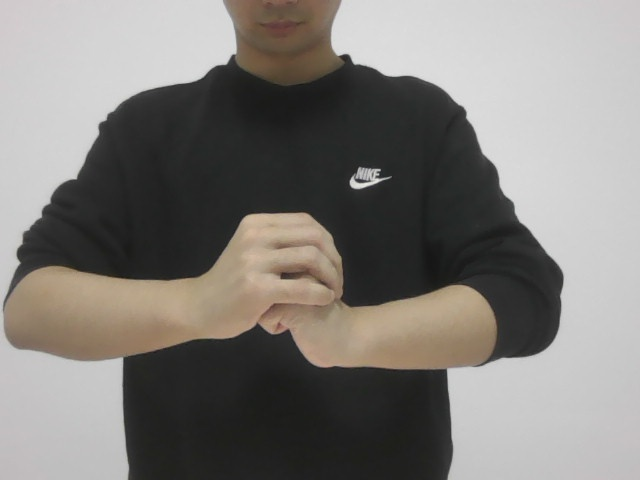wish: (196, 209, 355, 382)
